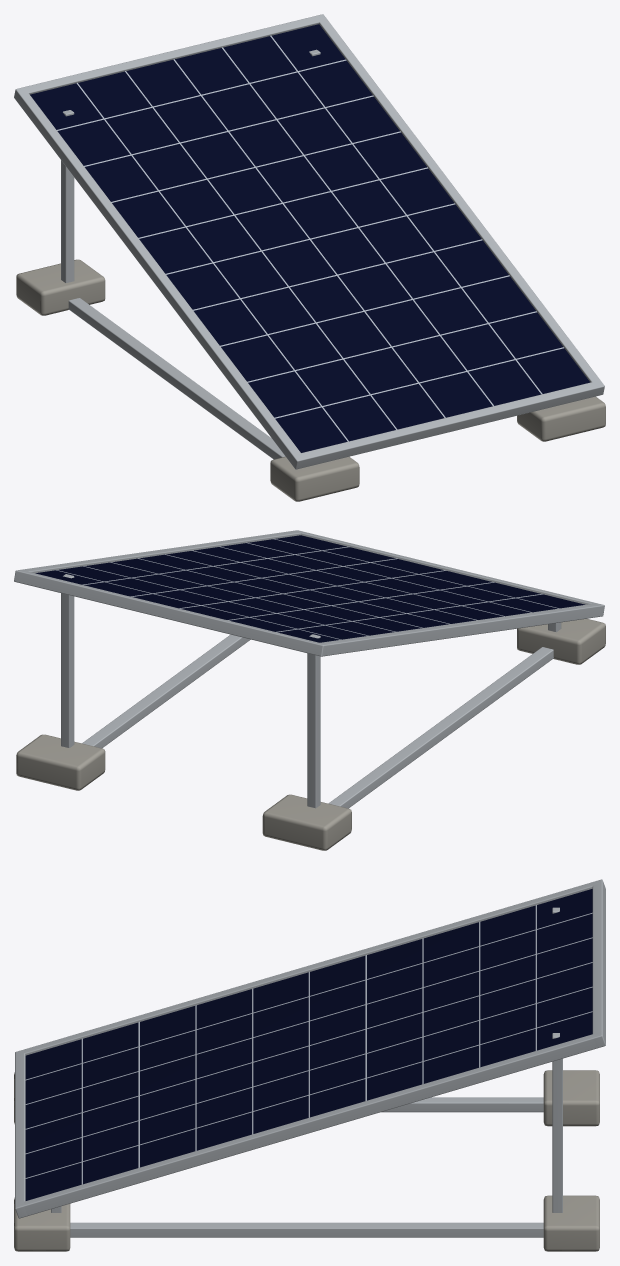
Rendered from solar_panel.glb.
3 renders of one model, top to bottom at view 1: azimuth 30°, elevation 25°; view 2: azimuth 150°, elevation 25°; view 3: azimuth 270°, elevation 25°, orthographic. The views are drawn at different scales.
Visible parts, largest first — view 1: Body; view 2: Body; view 3: Body.
Part boxes in pixels (left/top/right/bottom): Body: left=14, top=14, right=605, bottom=501; Body: left=14, top=530, right=605, bottom=850; Body: left=14, top=879, right=605, bottom=1251.
Size of the model in its own units: 1.06 by 0.6762 by 1.68.
